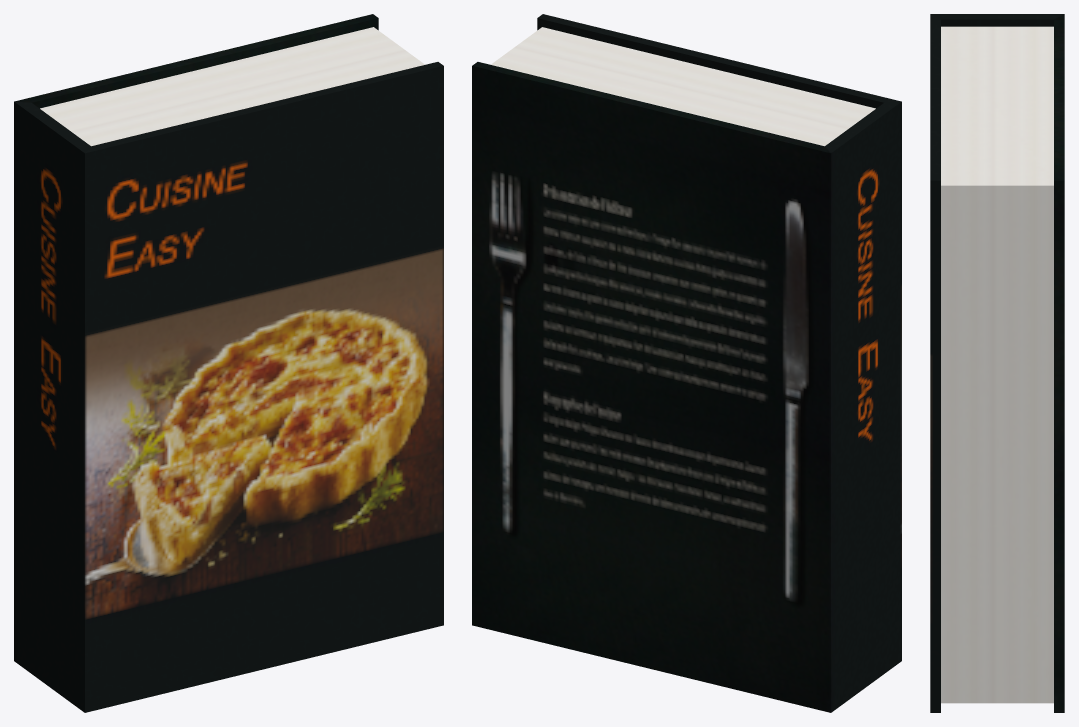
The model's file is Product_book02.FBX.
3 views of the same model, side by side, from view 1: azimuth 30°, elevation 25°; view 2: azimuth 150°, elevation 25°; view 3: azimuth 270°, elevation 25° (orthographic). The views are drawn at different scales.
Parts seen in each view (by area): view 1: Product_book02; view 2: Product_book02; view 3: Product_book02.
Boxes of the visible parts, <box> form: Product_book02: <box>14,14,443,712</box>; Product_book02: <box>472,14,901,712</box>; Product_book02: <box>930,14,1064,712</box>.
Bounding box in the file's own units: 0.1802 × 0.2685 × 0.0615.
